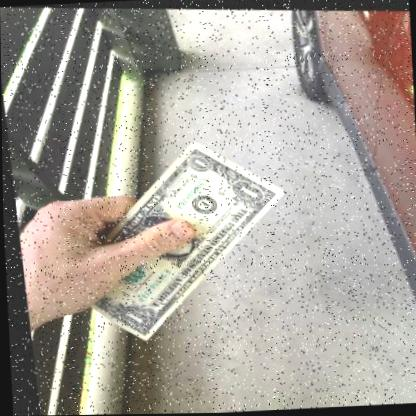one-front: (58, 139, 283, 341)
